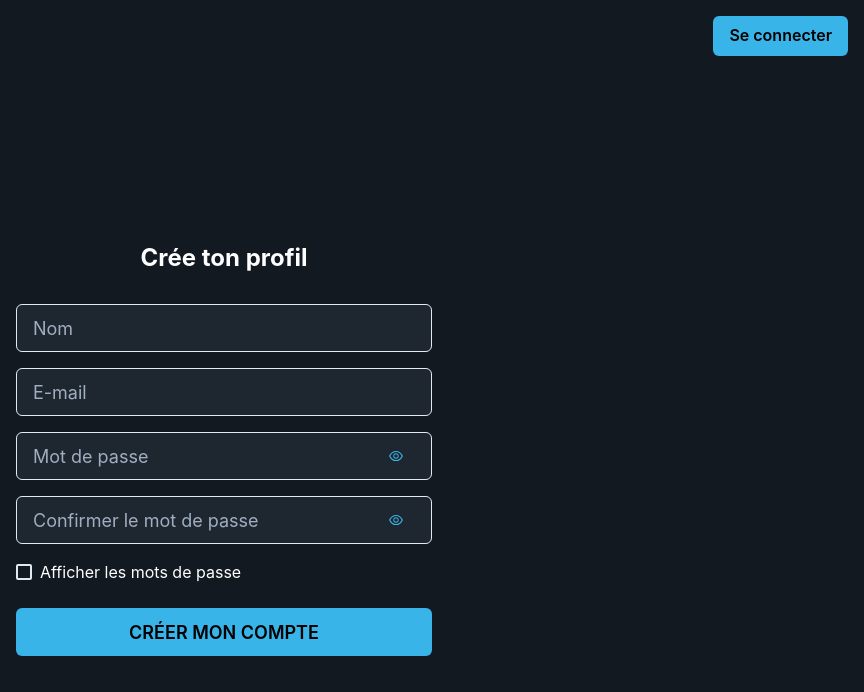
Test case: Register › Password Validation › shows error when passwords do not match
The image size is (864, 692).
In the field with placeholder "Nom": [224, 328] box [16,304,432,352], type "John Doe"
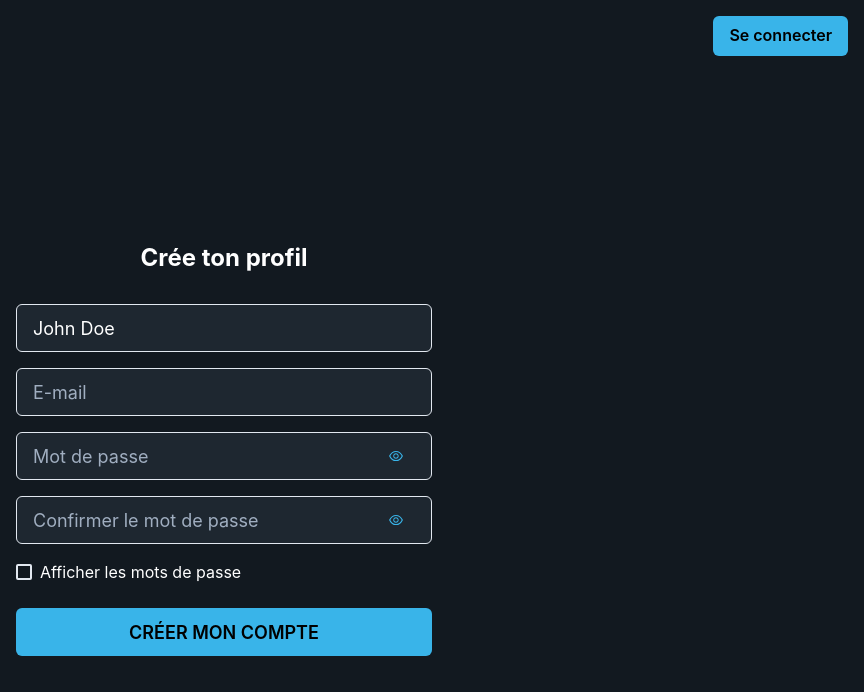
In the field with placeholder "E-mail": [224, 392] box [16,368,432,416], type "john@example.com"
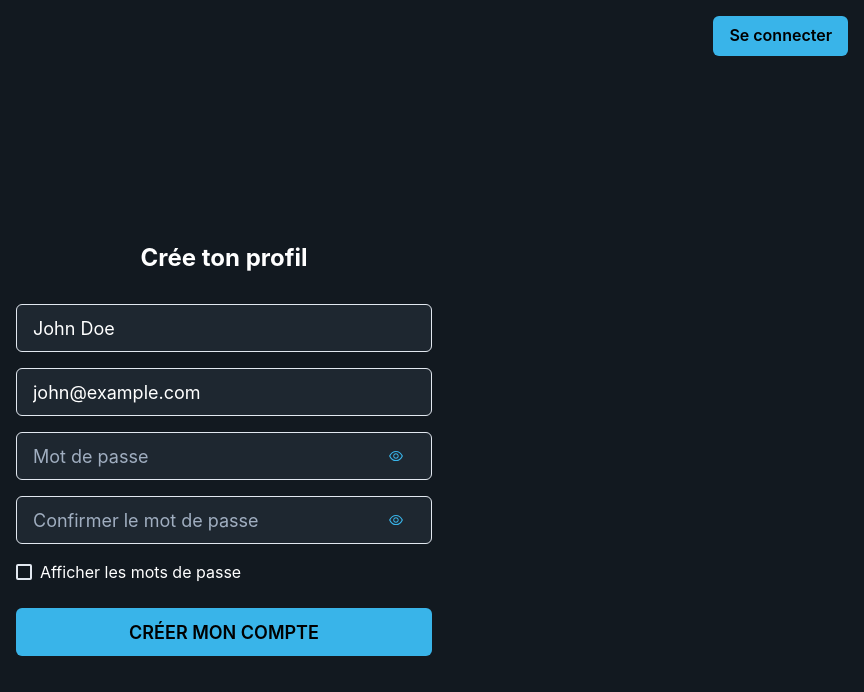
In the password field with placeholder "Mot de passe": [224, 456] box [16,432,432,480], type "password123"
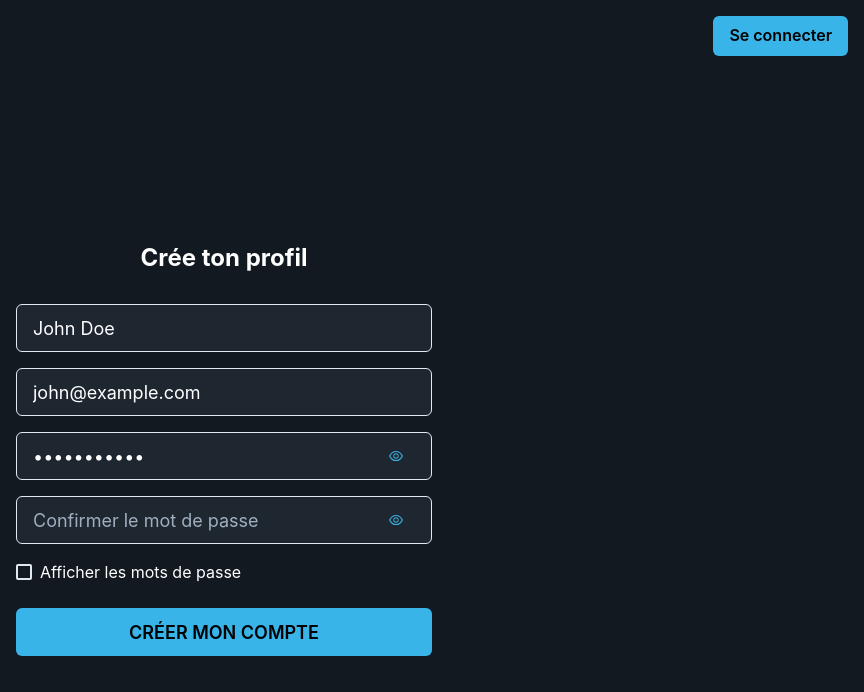
In the password field with placeholder "Confirmer le mot de passe": [224, 520] box [16,496,432,544], type "differentpassword"
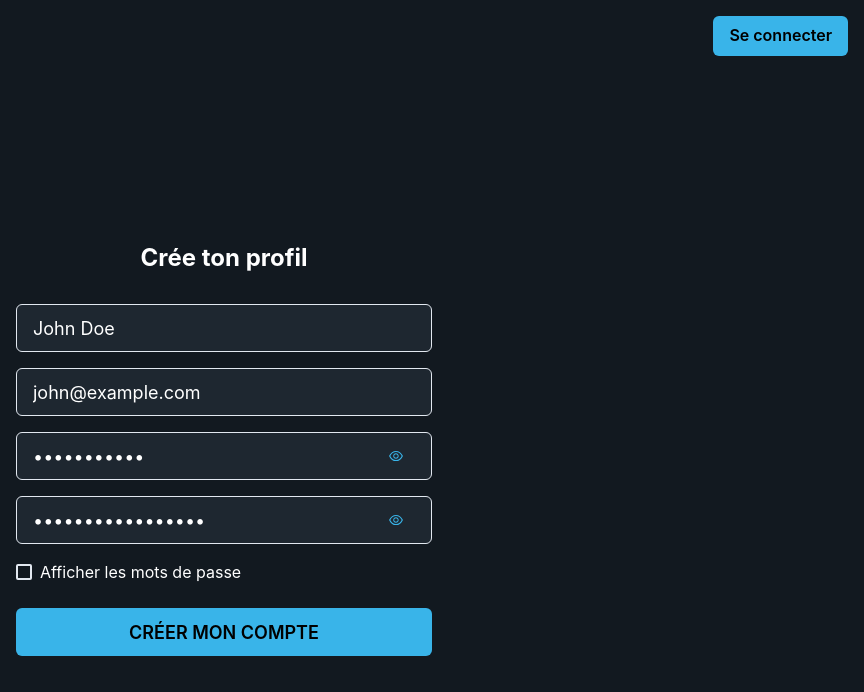
Click the button "CRÉER MON COMPTE": [224, 632] box [16,608,432,656]
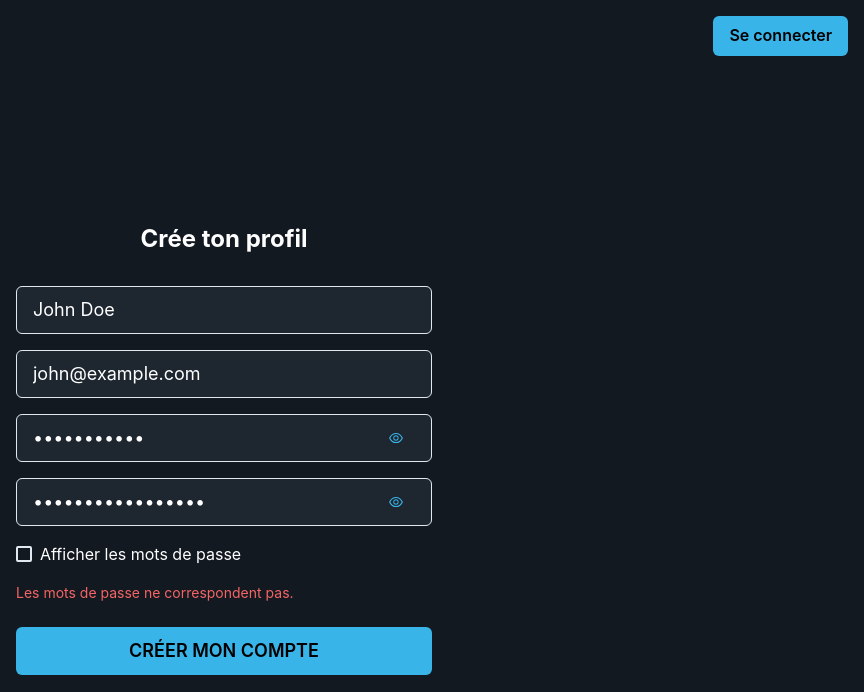
Check: the text "Les mots de passe ne correspondent pas." is shown, box [16,582,294,603]
